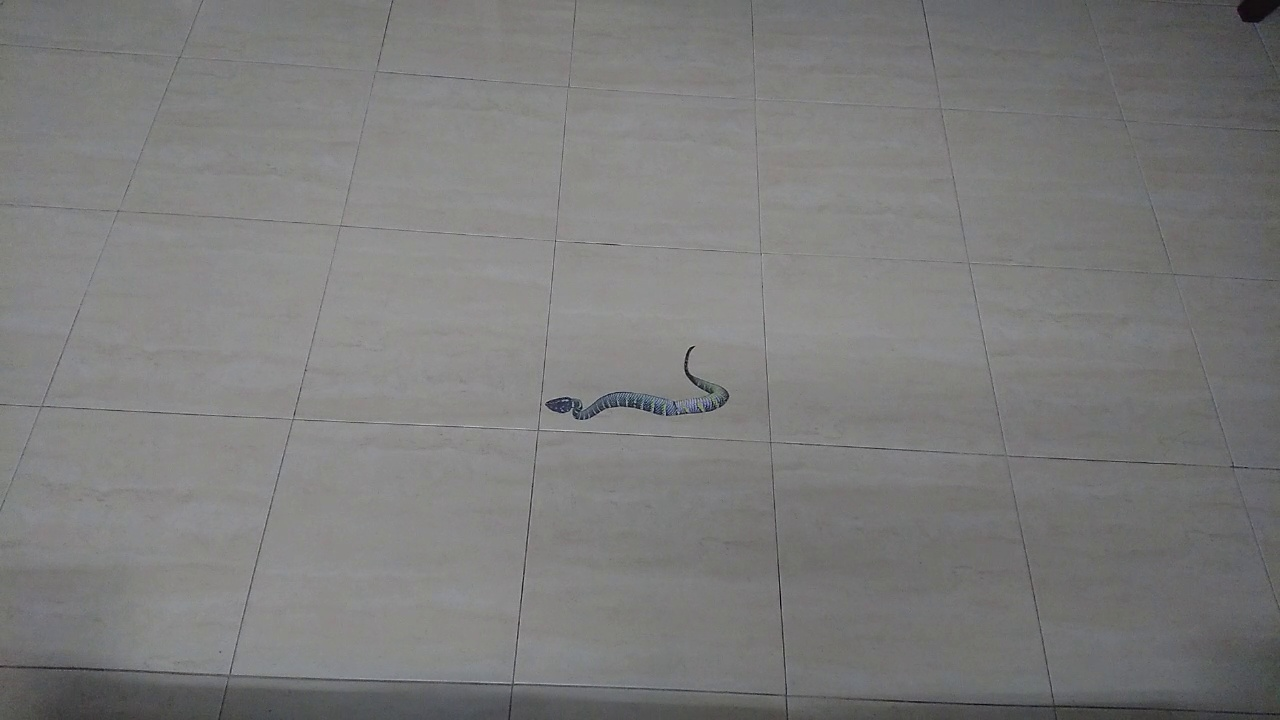snake: (529, 331, 746, 435)
